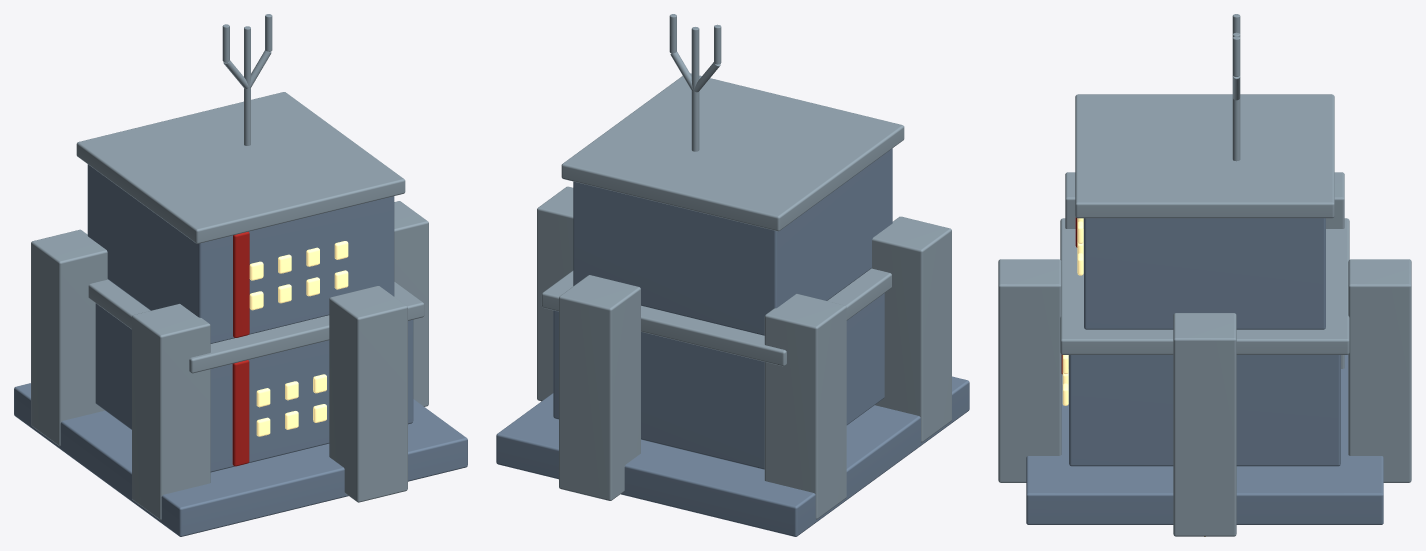
The picture shows the model from 3 angles, left to right: view 1: azimuth 30°, elevation 25°; view 2: azimuth 150°, elevation 25°; view 3: azimuth 270°, elevation 25°; orthographic projection. The views are drawn at different scales.
Parts seen in each view (by area): view 1: Block roof ledge.001, Modular block storey.001, Foundation slab, Block buttress.004, Block buttress.003, Modular block storey, Block buttress.002, Block roof ledge, Block buttress, Vertical block colour strip, Vertical block colour strip.001, Aerial stem; view 2: Modular block storey.001, Block roof ledge.001, Foundation slab, Modular block storey, Block buttress.001, Block buttress.002, Block buttress.003, Block roof ledge, Block buttress, Aerial stem; view 3: Block roof ledge.001, Modular block storey.001, Modular block storey, Foundation slab, Block buttress, Block buttress.001, Block buttress.004, Block roof ledge, Block buttress.002, Block buttress.003, Aerial stem.
Boxes of the visible parts, x1,y1,x2,y2 form: Block roof ledge.001: (76, 92, 405, 243); Modular block storey.001: (87, 164, 394, 343); Foundation slab: (14, 383, 467, 536); Block buttress.004: (329, 286, 407, 502); Block buttress.003: (132, 303, 210, 519); Modular block storey: (95, 303, 413, 472); Block buttress.002: (31, 229, 107, 446); Block roof ledge: (88, 279, 424, 373); Block buttress: (394, 201, 428, 406); Vertical block colour strip: (232, 360, 249, 466); Vertical block colour strip.001: (233, 231, 249, 337); Aerial stem: (244, 26, 250, 145); Modular block storey.001: (573, 148, 892, 335); Block roof ledge.001: (561, 73, 904, 231); Foundation slab: (496, 376, 969, 536); Modular block storey: (553, 293, 884, 469); Block buttress.001: (559, 275, 640, 500); Block buttress.002: (764, 294, 846, 519); Block buttress.003: (872, 216, 951, 442); Block roof ledge: (541, 268, 891, 366); Block buttress: (537, 186, 573, 401); Aerial stem: (691, 27, 699, 151); Block roof ledge.001: (1075, 94, 1334, 218); Modular block storey.001: (1084, 218, 1325, 329); Modular block storey: (1069, 355, 1340, 466); Foundation slab: (1026, 355, 1383, 524); Block buttress: (1173, 313, 1236, 536); Block buttress.001: (1348, 259, 1411, 482); Block buttress.004: (998, 259, 1061, 482); Block roof ledge: (1060, 218, 1349, 354); Block buttress.002: (1326, 172, 1344, 368); Block buttress.003: (1065, 172, 1083, 368); Aerial stem: (1232, 32, 1240, 161).
Size of the model in its own units: 2.26 by 2.74 by 2.36.
